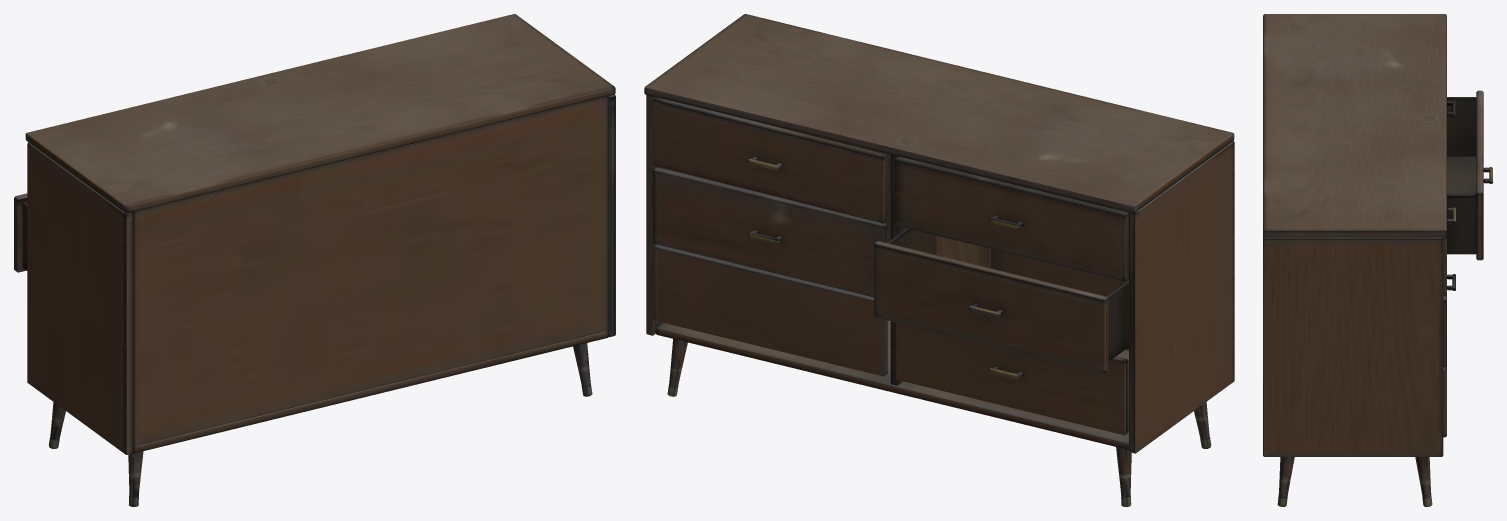
File: furniture_cabinet_low.glb
3 views of the same model, side by side, from view 1: azimuth 30°, elevation 25°; view 2: azimuth 150°, elevation 25°; view 3: azimuth 270°, elevation 25° (orthographic). The views are drawn at different scales.
Visible parts, largest first — view 1: furniture_cabinet_low; view 2: furniture_cabinet_low; view 3: furniture_cabinet_low.
Part boxes in pixels (x1=…): furniture_cabinet_low: x1=14, y1=14, x2=615, y2=506; furniture_cabinet_low: x1=644, y1=14, x2=1234, y2=506; furniture_cabinet_low: x1=1263, y1=14, x2=1492, y2=506.
Bounding box in the file's own units: 1.4 × 0.8507 × 0.625.
1 material, 1 textured.
